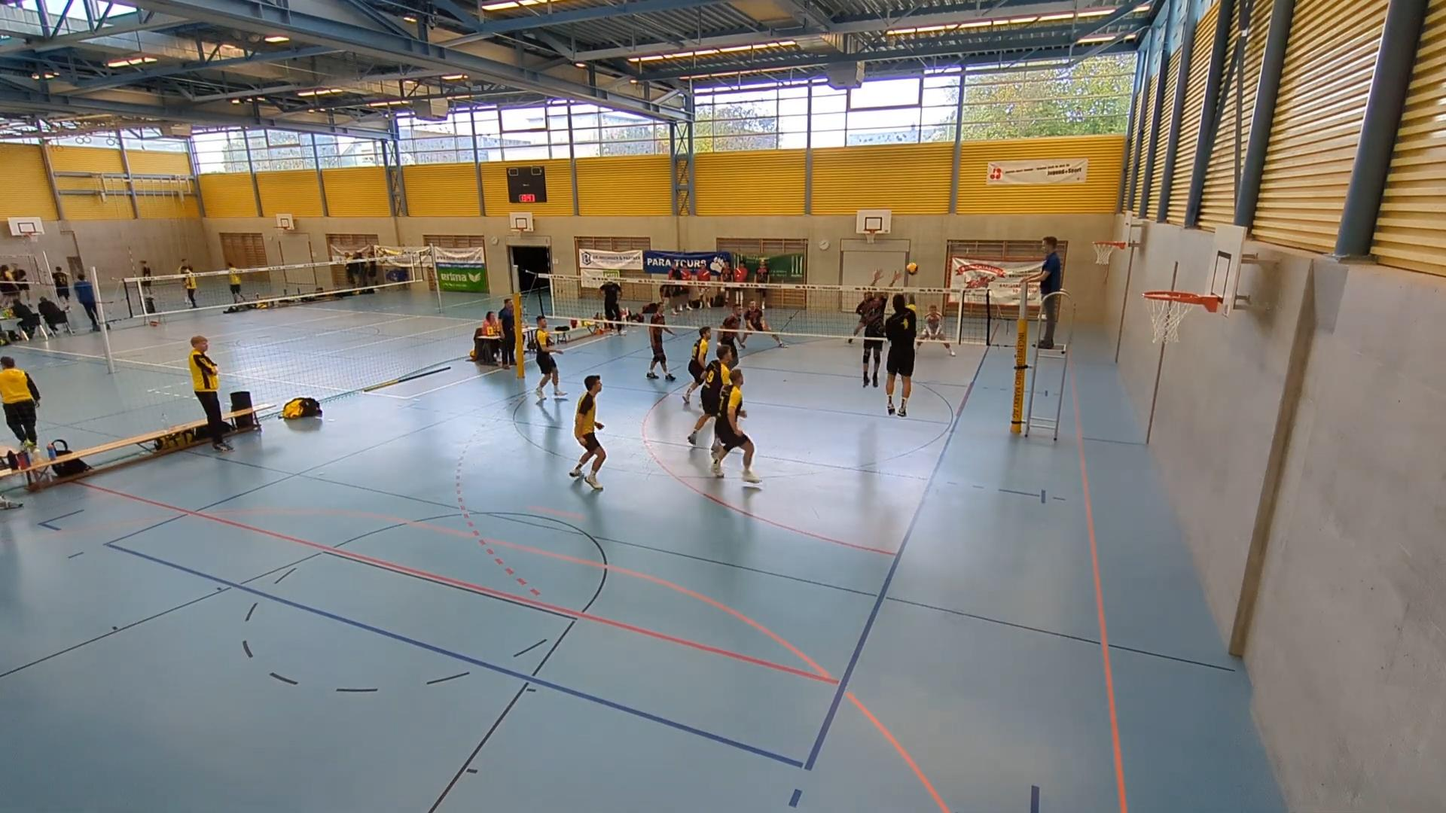attacco: (864, 270, 924, 425)
muro: (850, 259, 895, 389)
